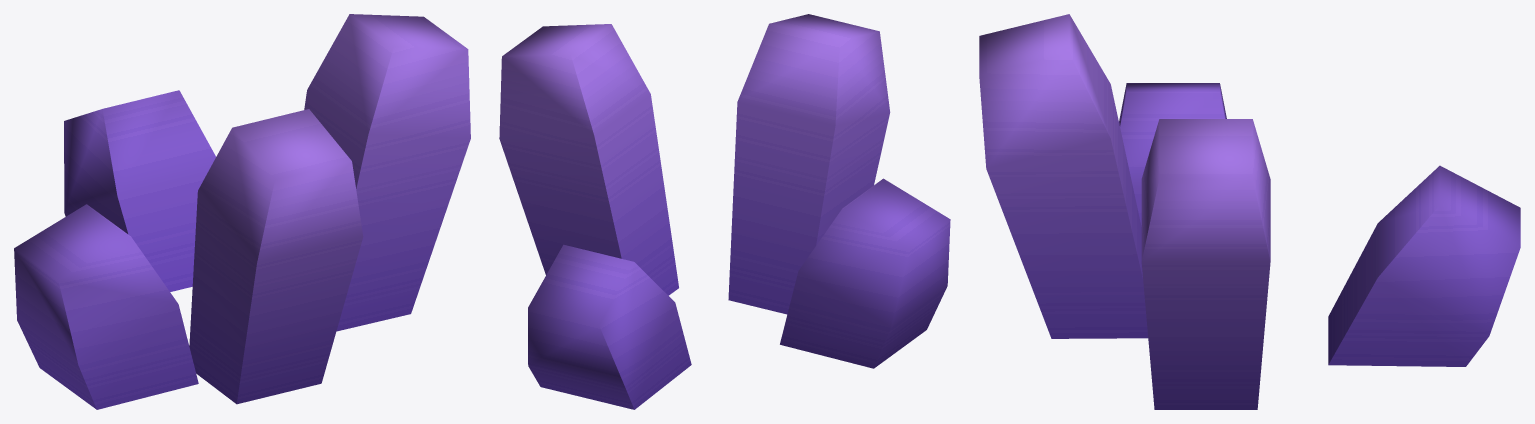
The model's file is grama.glb.
The picture shows the model from 3 angles, left to right: view 1: azimuth 30°, elevation 25°; view 2: azimuth 150°, elevation 25°; view 3: azimuth 270°, elevation 25°; orthographic projection. The views are drawn at different scales.
Parts seen in each view (by area): view 1: grass; view 2: grass; view 3: grass.
Part boxes in pixels (x1=…): grass: x1=14, y1=14, x2=470, y2=409; grass: x1=499, y1=14, x2=950, y2=409; grass: x1=979, y1=14, x2=1520, y2=409.
Bounding box in the file's own units: 0.5187 × 0.3139 × 0.5437.
1 material, 1 textured.
